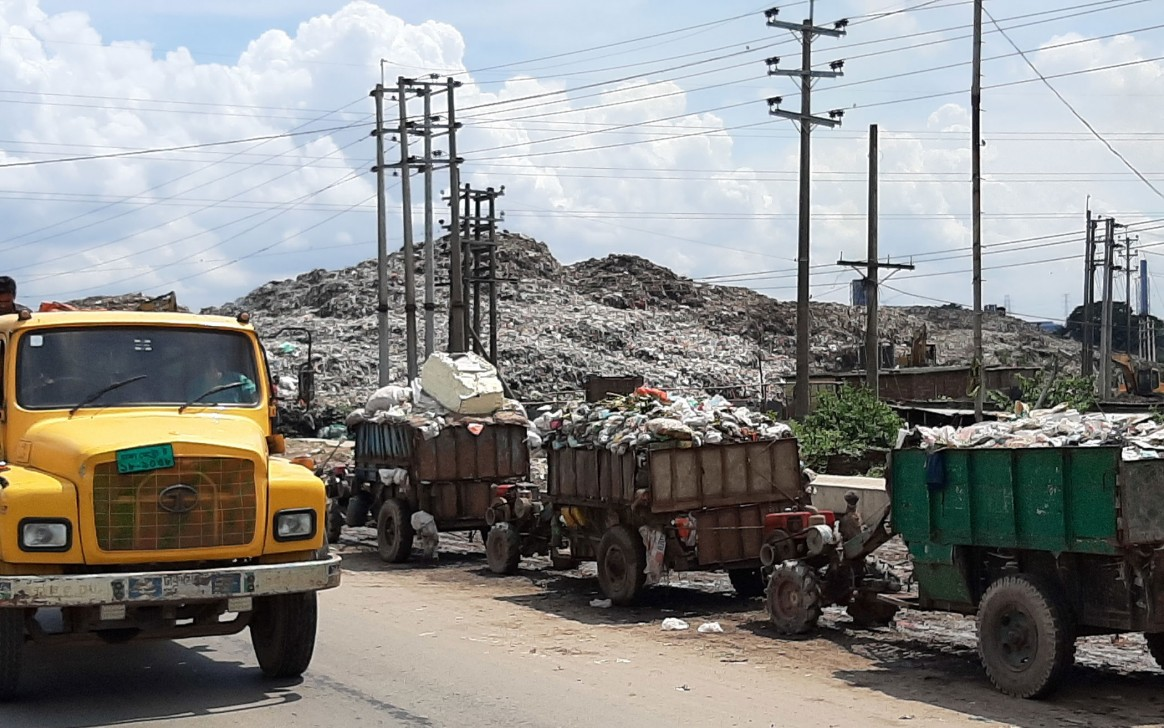garbagevan: (762, 415, 1164, 698), (488, 387, 800, 598), (325, 407, 531, 563)
truck: (1, 309, 341, 674)
